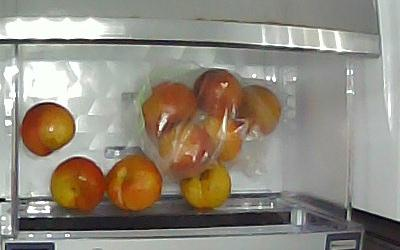prune: (50, 157, 106, 213), (106, 155, 163, 210), (22, 103, 76, 158), (180, 161, 232, 208)
prune_vinyl: (157, 123, 212, 177), (141, 82, 196, 135), (192, 113, 244, 166), (234, 84, 282, 137), (196, 70, 243, 117)
